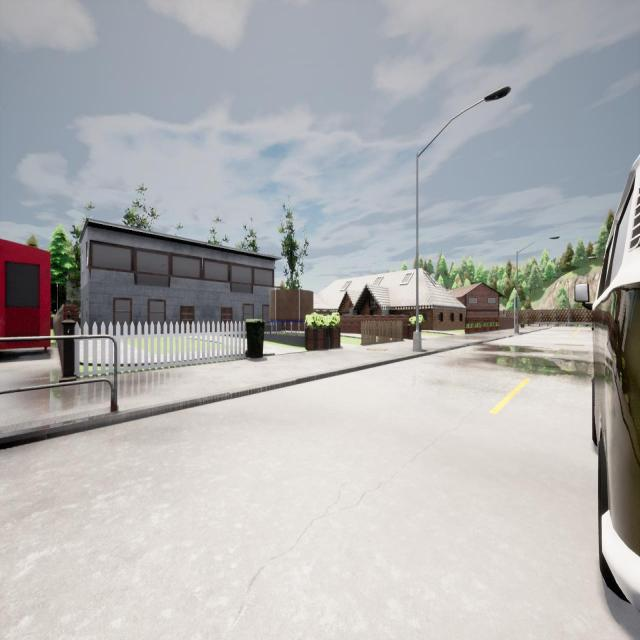Vehicle: (573, 155, 640, 610)
traffic_light: (514, 297, 518, 308)
